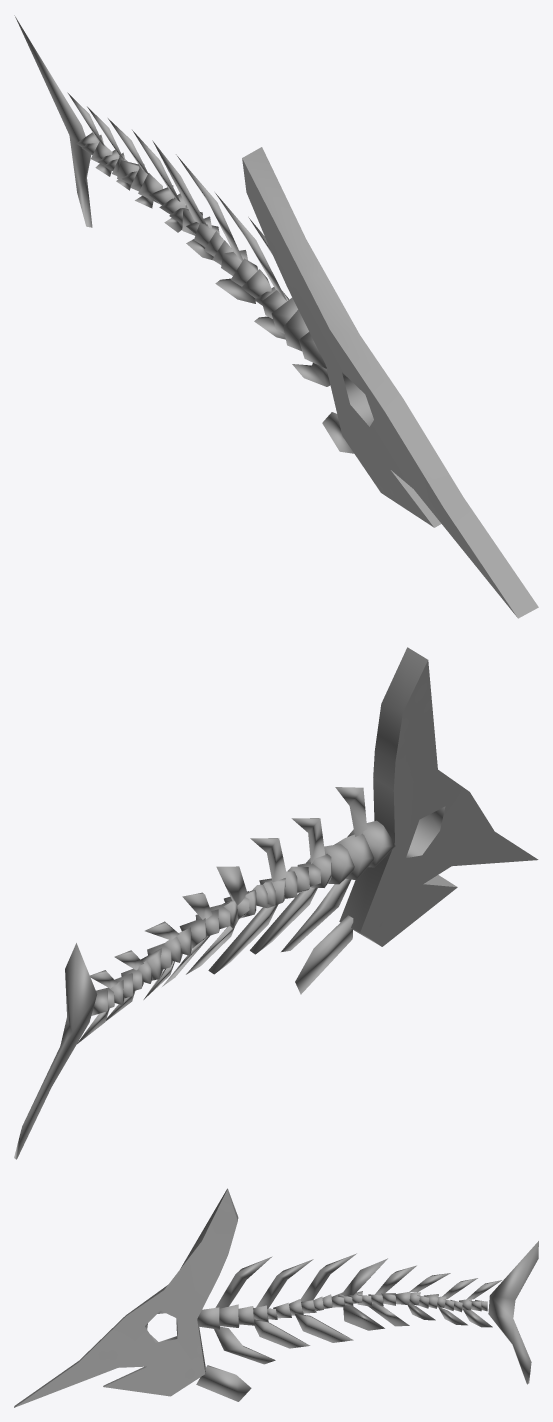
File: CAT_LOW.001.fbx
3 renders of one model, top to bottom at view 1: azimuth 30°, elevation 25°; view 2: azimuth 150°, elevation 25°; view 3: azimuth 270°, elevation 25°, orthographic. The views are drawn at different scales.
Visible parts, largest first — view 1: CAT_LOW.001; view 2: CAT_LOW.001; view 3: CAT_LOW.001.
Part boxes in pixels (x1,y1,x2,y2): CAT_LOW.001: (14, 15, 538, 618); CAT_LOW.001: (14, 647, 538, 1159); CAT_LOW.001: (14, 1188, 538, 1407).
Bounding box in the file's own units: 29.67 × 85.83 × 207.
